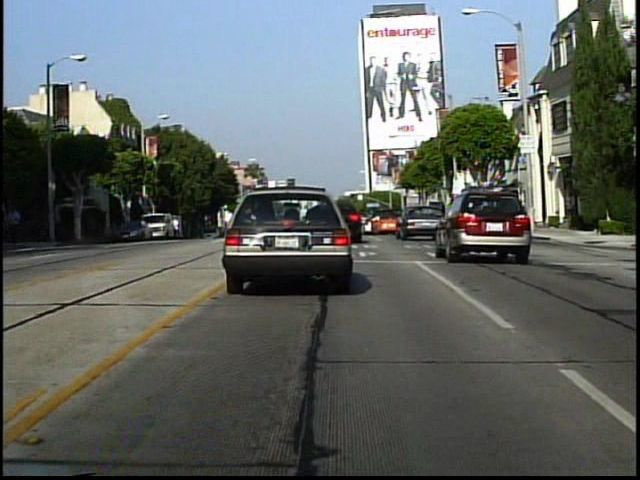person: (5, 204, 32, 254), (172, 214, 183, 242)
